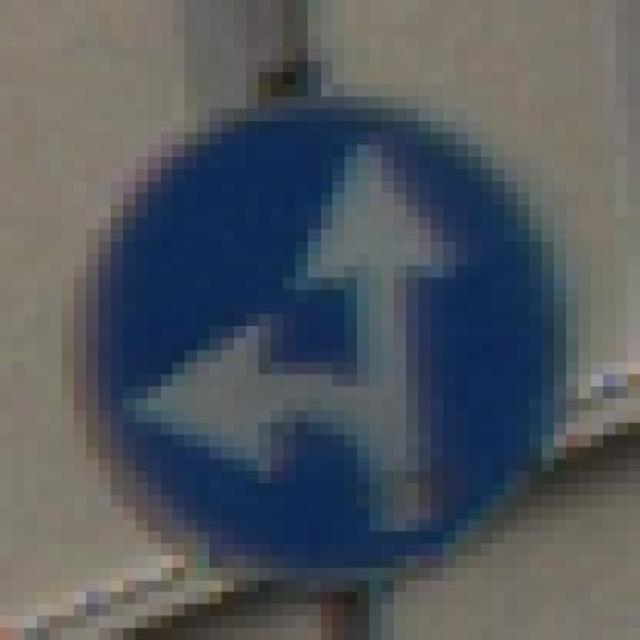Go straight or turn left: (49, 61, 591, 604)
